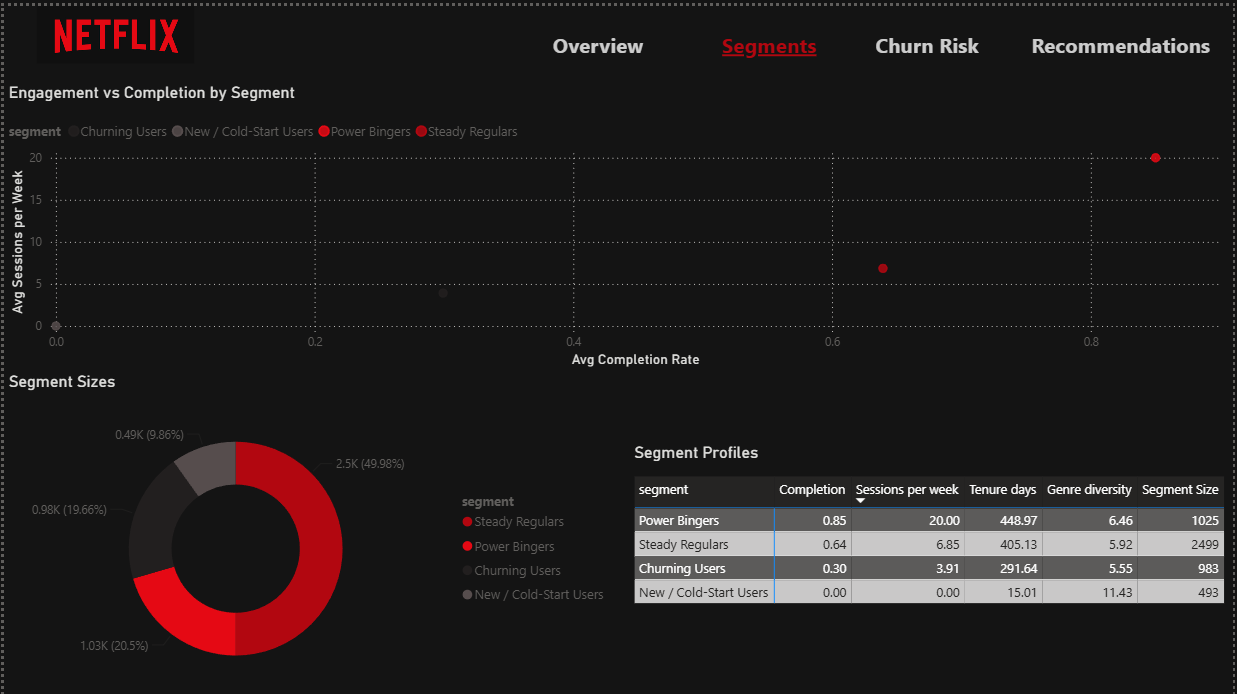

The page's visual inventory and layout, read from the dashboard file:
{"tool":"powerbi","page":{"name":"Viewer Segments","canvas":[1280,720],"ordinal":2},"visuals":[{"type":"image","box":[0,0,232.1,60],"z":4000},{"type":"donutChart","title":"Segment Sizes","fields":{"Category":["dashboard_segments.segment"],"Y":["CountNonNull(dashboard_segments.user_id)"]},"box":[0,381.6,639,337.7],"z":5000},{"type":"scatterChart","title":"Engagement vs Completion by Segment","fields":{"X":["Avg(dashboard_segments.avg_completion_rate)"],"Y":["Avg(dashboard_segments.obs_avg_sessions_per_week)"],"Series":["dashboard_segments.segment"]},"box":[0,80.3,1279.5,301.3],"z":6000},{"type":"pivotTable","title":"Segment Profiles","fields":{"Rows":["dashboard_segments.segment"],"Values":["Avg(dashboard_segments.avg_completion_rate)","Avg(dashboard_segments.obs_avg_sessions_per_week)","Avg(dashboard_segments.tenure_days)","Avg(dashboard_segments.genre_diversity)","CountNonNull(dashboard_segments.user_id)"]},"box":[651.1,454.3,628.4,193.8],"z":7000},{"type":"actionButton","title":"Overview","box":[529.8,20.4,178.7,39.4],"z":7001},{"type":"actionButton","title":"Recommendations","box":[1065.5,20.4,195.3,39.4],"z":7002},{"type":"actionButton","title":"Segments","box":[708.9,20.4,175.6,39.4],"z":7003},{"type":"actionButton","title":"Churn Risk","box":[885,20.4,154.4,39.4],"z":7004}]}

Visuals, with their boxes in screenshot pixels (x1, y1, x2, y2), scaled from the page's 1280x720 canvas onto the 1237x694 screenshot:
image: [0,0,224,58]
"Segment Sizes" donutChart: [0,368,618,693]
"Engagement vs Completion by Segment" scatterChart: [0,77,1236,368]
"Segment Profiles" pivotTable: [629,438,1236,625]
"Overview" actionButton: [512,20,685,58]
"Recommendations" actionButton: [1030,20,1218,58]
"Segments" actionButton: [685,20,855,58]
"Churn Risk" actionButton: [855,20,1004,58]
